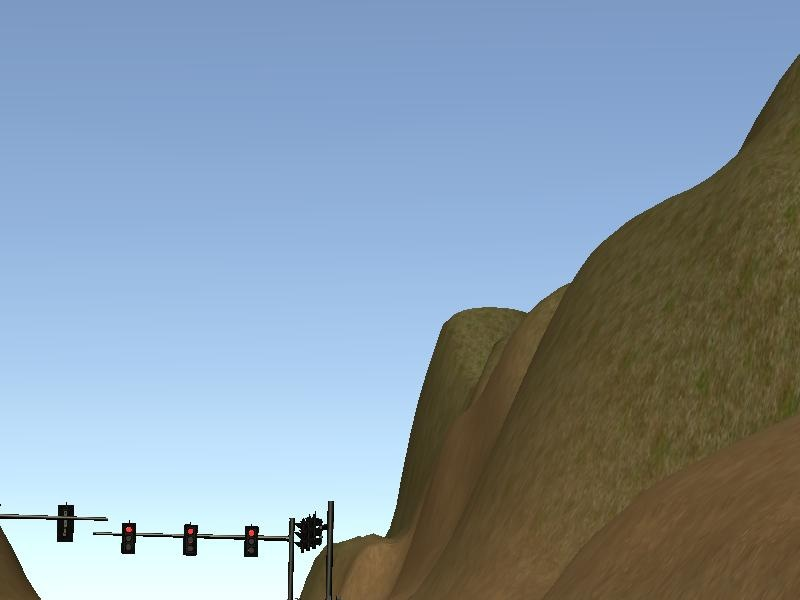red: (180, 520, 203, 559), (119, 517, 140, 556), (243, 523, 260, 559)
